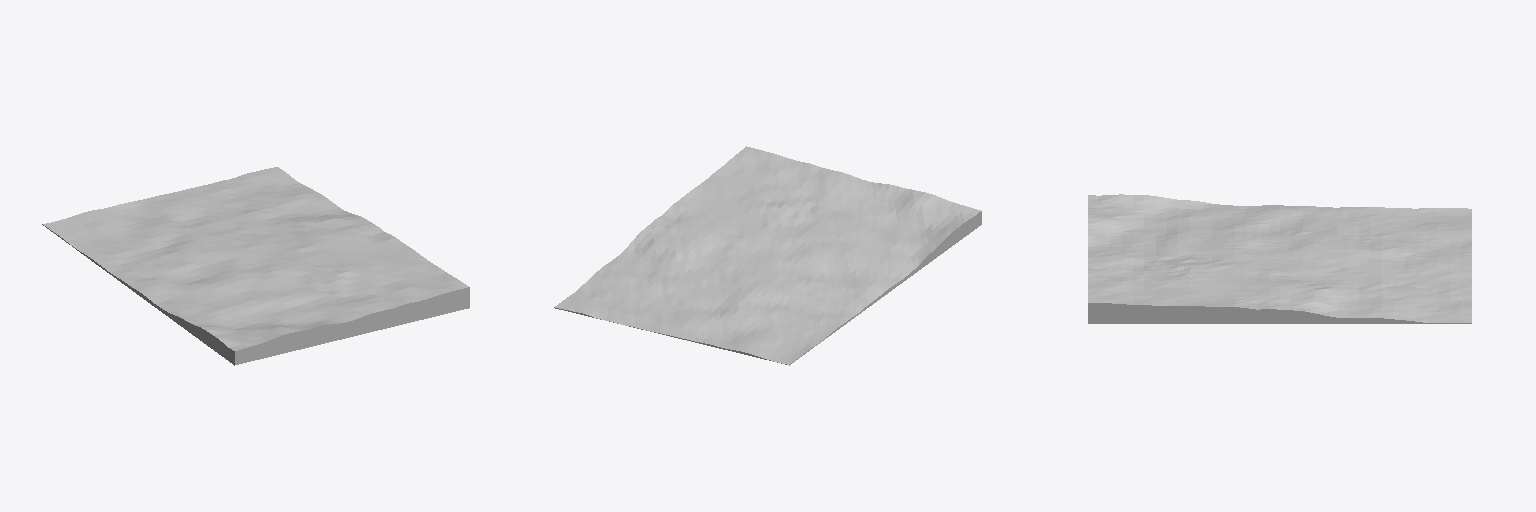
Rendered from roads-test-3.obj.
3 renders of one model, left to right at view 1: azimuth 30°, elevation 25°; view 2: azimuth 150°, elevation 25°; view 3: azimuth 270°, elevation 25°, orthographic.
Visible parts, largest first — view 1: Terrain, map_15.osm_roads_residential, map_15.osm_roads_service, map_15.osm_paths_footway; view 2: Terrain, map_15.osm_roads_residential, map_15.osm_roads_service, map_15.osm_paths_footway; view 3: Terrain, map_15.osm_roads_residential, map_15.osm_roads_service, map_15.osm_paths_footway.
Boxes of the visible parts, box(x1,y1,x2,y2) form: Terrain: box(42, 167, 469, 365); map_15.osm_roads_residential: box(82, 173, 454, 322); map_15.osm_roads_service: box(58, 179, 375, 298); map_15.osm_paths_footway: box(74, 177, 386, 338); Terrain: box(554, 146, 981, 365); map_15.osm_roads_residential: box(583, 156, 893, 335); map_15.osm_roads_service: box(580, 199, 853, 358); map_15.osm_paths_footway: box(572, 172, 952, 352); Terrain: box(1088, 194, 1471, 323); map_15.osm_roads_residential: box(1092, 209, 1470, 318); map_15.osm_roads_service: box(1178, 209, 1469, 317); map_15.osm_paths_footway: box(1090, 199, 1458, 321).
Bounding box in the file's own units: 742 × 64 × 1051.